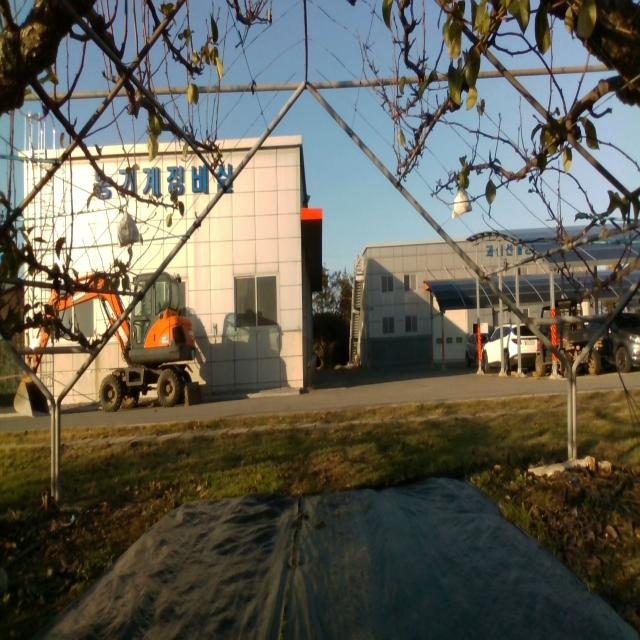pearbags: (117, 207, 141, 248), (452, 189, 472, 220)
